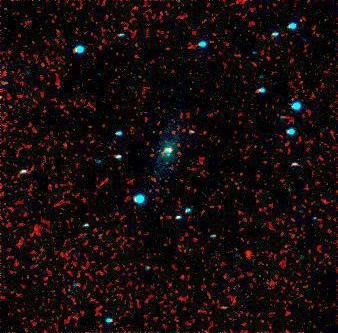star: (231, 240, 261, 270)
